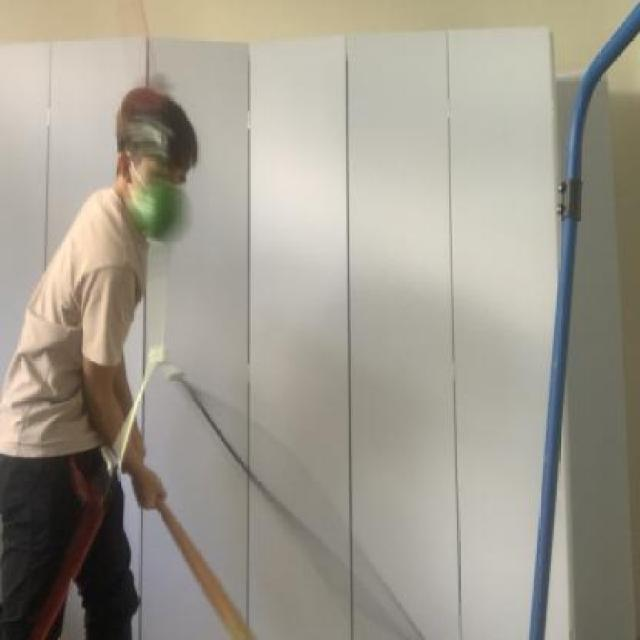baseball: (128, 168, 197, 250)
